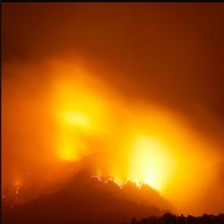fire: (63, 98, 171, 200)
